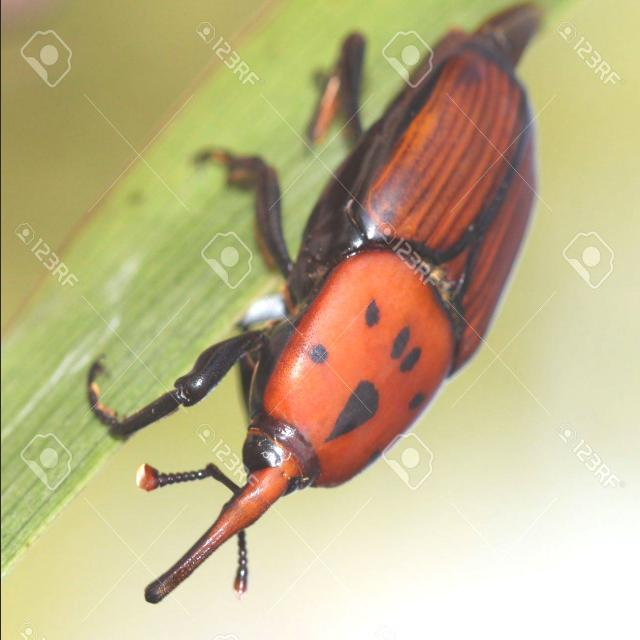Red-palm-weevil: (133, 50, 535, 602)
